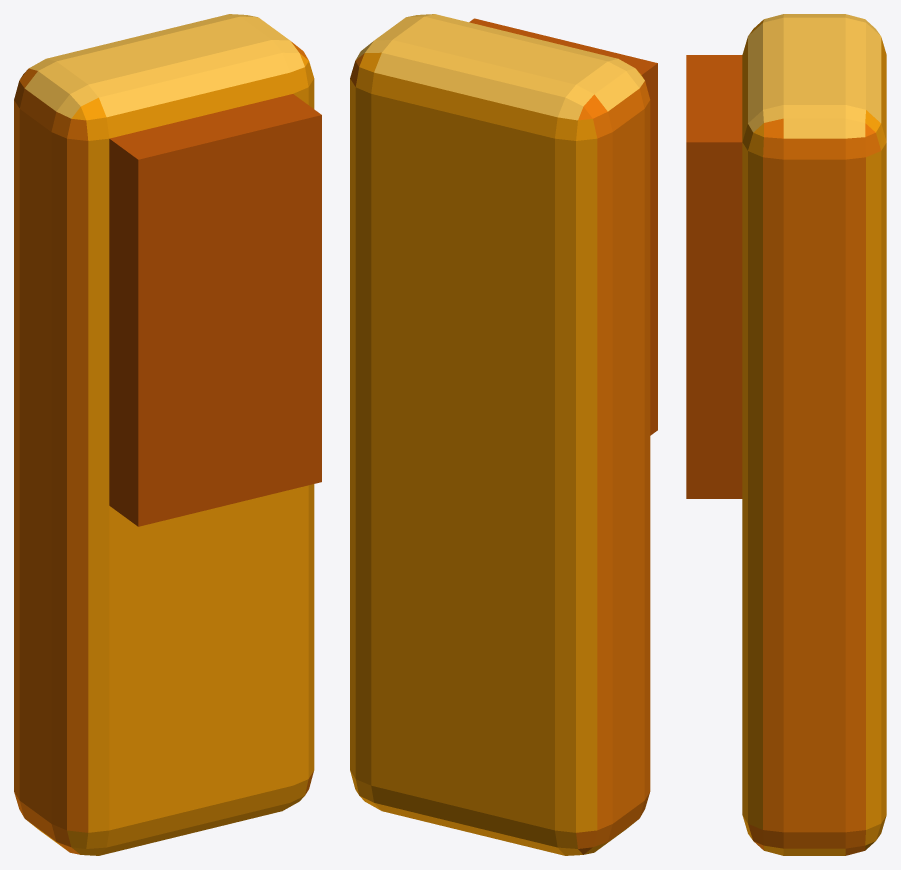
The picture shows the model from 3 angles, left to right: view 1: azimuth 30°, elevation 25°; view 2: azimuth 150°, elevation 25°; view 3: azimuth 270°, elevation 25°; orthographic projection. The views are drawn at different scales.
Visible parts, largest first — view 1: body; view 2: body; view 3: body.
Boxes of the visible parts, x1,y1,x2,y2 form: body: [14, 14, 321, 855]; body: [350, 14, 657, 855]; body: [686, 14, 886, 855].
Size of what is drawn, in the model's own units: 0.7 by 2 by 0.4862.
Materials: 1 (1 with a texture image).
